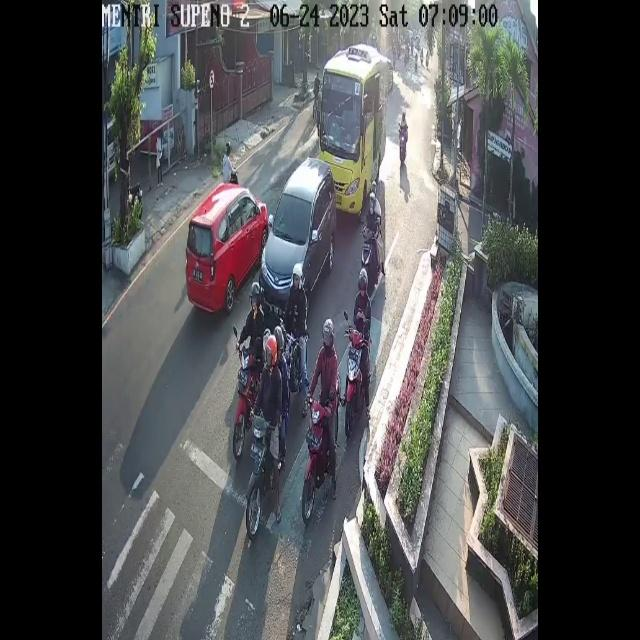bus: (247, 414, 284, 544), (303, 401, 335, 520), (233, 345, 255, 460), (346, 326, 368, 432), (284, 332, 308, 394), (361, 224, 381, 292), (397, 125, 409, 170)
car: (318, 42, 387, 214)
motorcycle: (262, 156, 332, 310), (185, 183, 268, 312)
